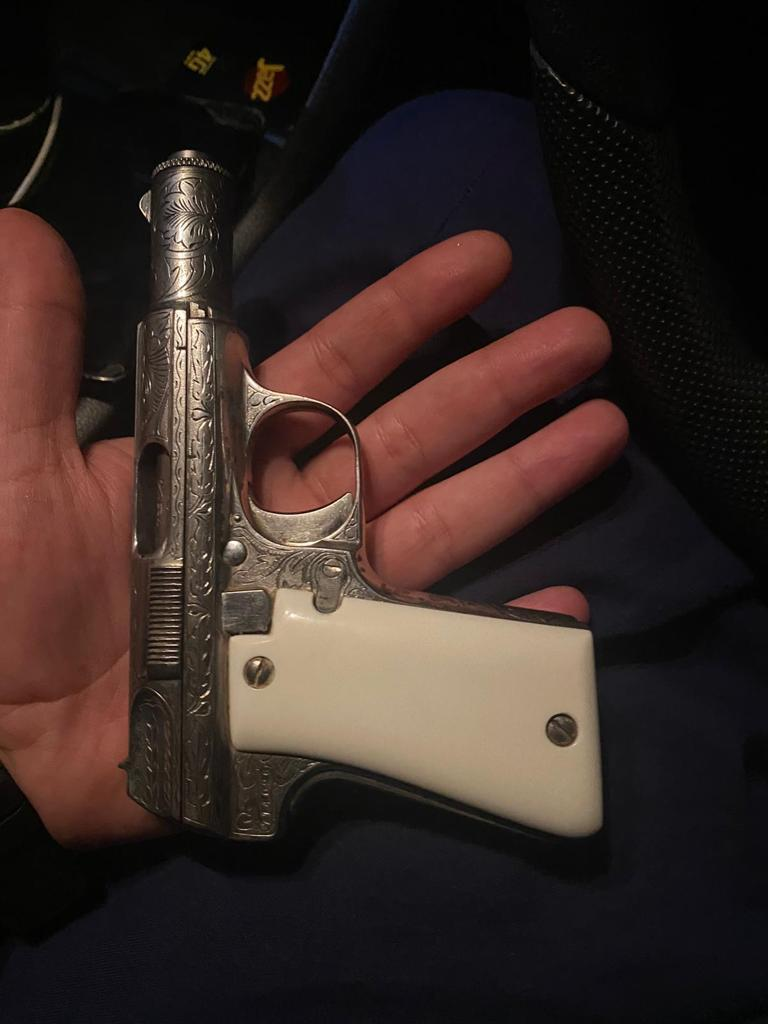weapon: (118, 147, 624, 856)
